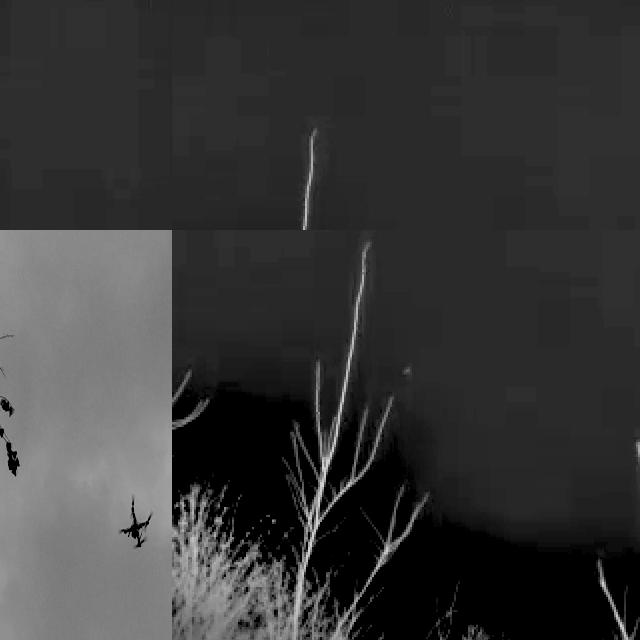0: (396, 357, 418, 385)
drone: (118, 497, 154, 552)
